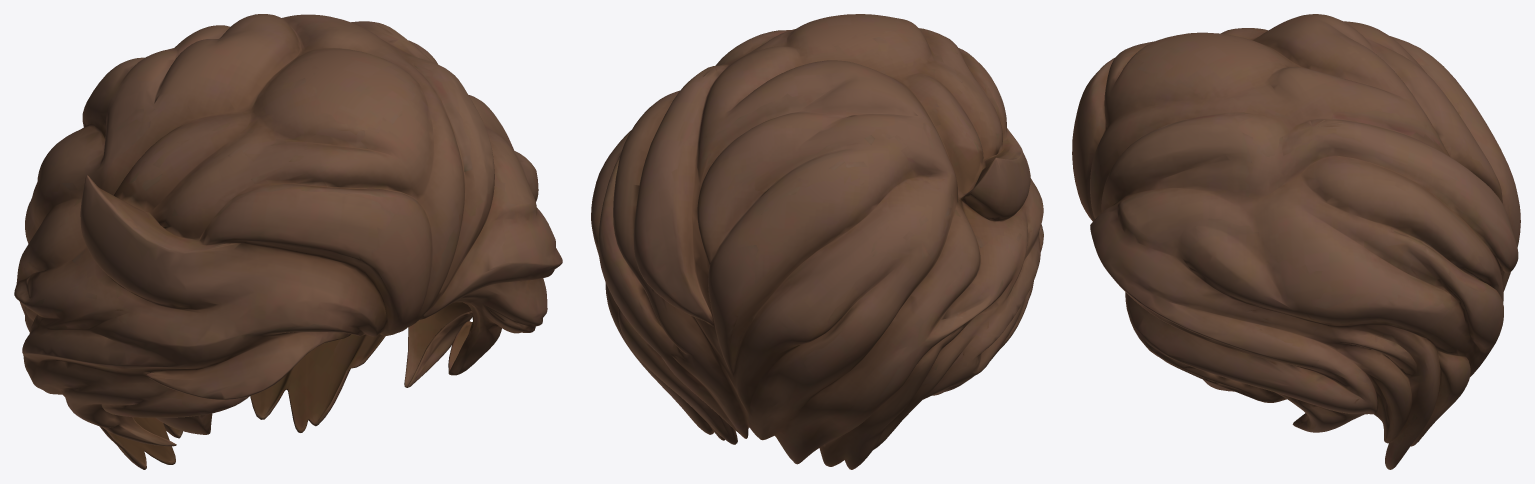
Rendered from hair_sweptback.glb.
3 renders of one model, left to right at view 1: azimuth 30°, elevation 25°; view 2: azimuth 150°, elevation 25°; view 3: azimuth 270°, elevation 25°, orthographic. The views are drawn at different scales.
Parts seen in each view (by area): view 1: hair; view 2: hair; view 3: hair.
Boxes of the visible parts, x1,y1,x2,y2 form: hair: [14, 14, 562, 469]; hair: [591, 14, 1043, 469]; hair: [1072, 14, 1520, 469].
Size of the model in its own units: 2.41 by 2.18 by 2.23.
1 material, 1 textured.
